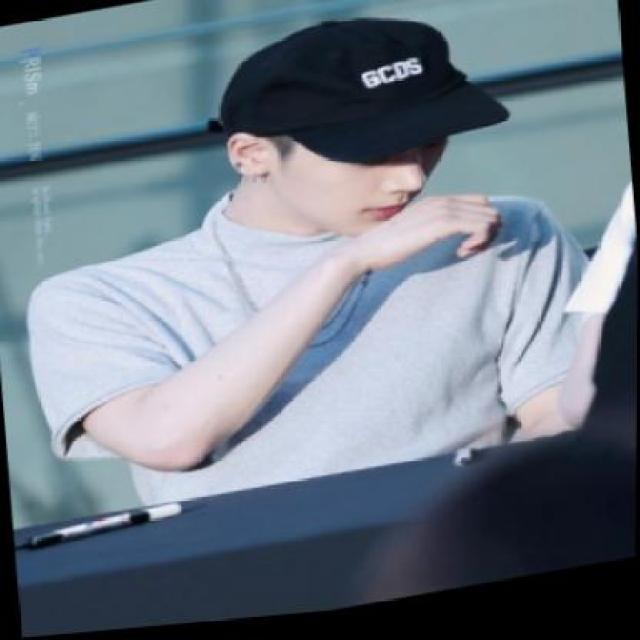hat: (195, 0, 514, 202)
